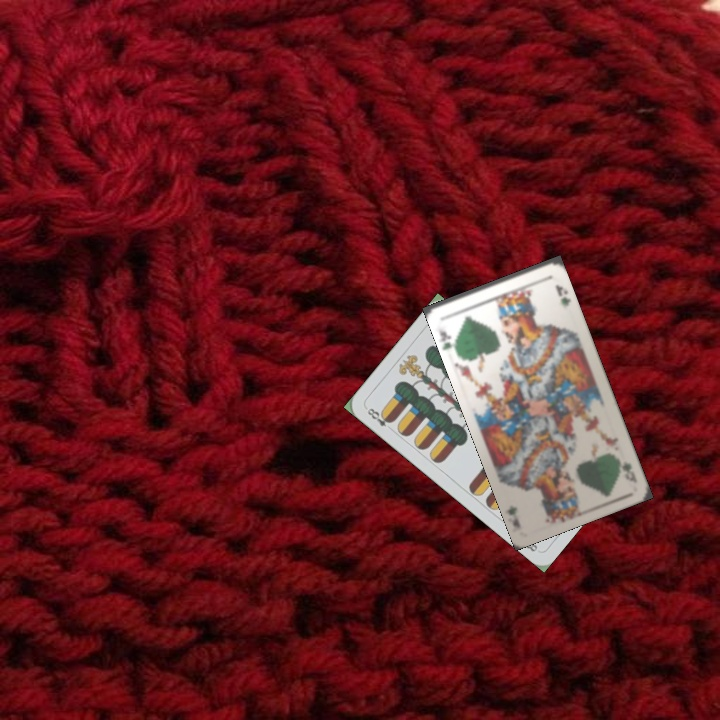E8: (362, 403, 395, 434)
GK: (435, 325, 459, 354), (617, 457, 639, 486)
